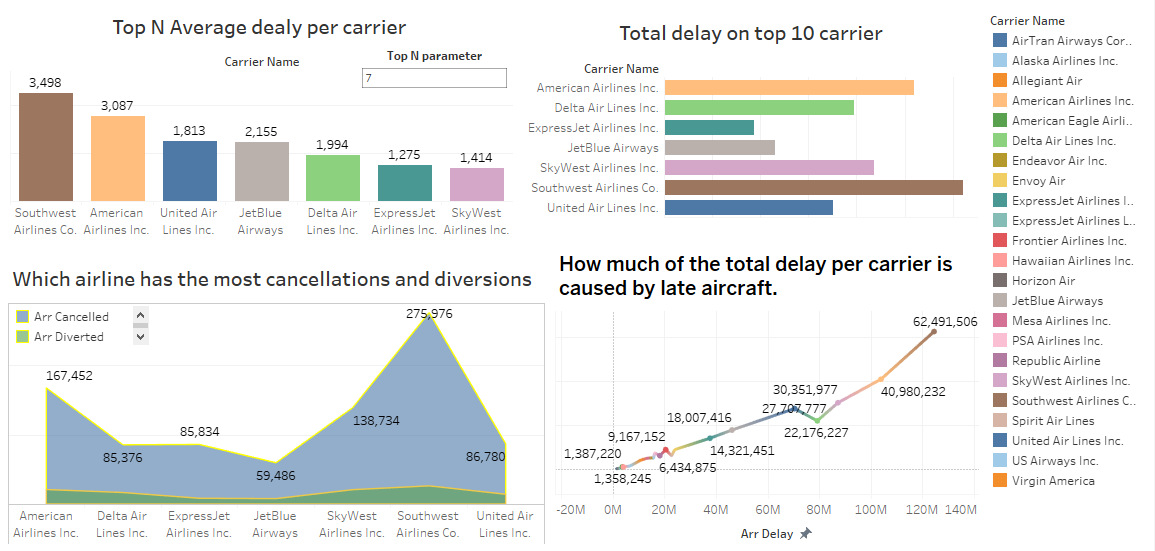

This screenshot's page, from the dashboard's own definition file:
{"tool":"tableau","page":{"name":"Airline Performance ","canvas":[1000,1000],"units":"permille","ordinal":0},"visuals":[{"type":"worksheet","title":"Sheet 5","mark":"Automatic","rows":["arr_delay"],"cols":["carrier_name"],"box":[9.5,14.5,435.5,422.1]},{"type":"legend","title":"Sheet 8","param":"[federated.16tr0iu0la0rbz14hj3gu0cn3j2k].[none:carrier_name:nk]","box":[854.5,14.5,138.5,880.4]},{"type":"worksheet","title":"Sheet 6","mark":"Bar","rows":["carrier_name"],"cols":["arr_delay"],"box":[454.6,25.4,393.1,416.7]},{"type":"parameter","param":"[Parameters].[Parameter 1]","box":[311.7,85.1,130.7,96]},{"type":"worksheet","title":"Sheet 8","mark":"Line","rows":["late_aircraft_delay"],"cols":["arr_delay"],"box":[481.4,449.3,367.1,545.3]},{"type":"worksheet","title":"Sheet 7","mark":"Area","rows":["arr_cancelled","arr_diverted"],"cols":["carrier_name"],"box":[7.8,471,464.9,516.3]},{"type":"legend","title":"Sheet 7","param":"[federated.16tr0iu0la0rbz14hj3gu0cn3j2k].[:Measure Names]","box":[11.3,554.4,120.4,70.7]}]}

Visuals, with their boxes on the dashboard's canvas, which has no fixed pixel size, in thousandths of its width and height (x1, y1, x2, y2). These are canvas units, not pixel positions in the 1155x551 screenshot, which may show the page scaled, cropped or inside an application window:
"Sheet 5" worksheet: region(10, 14, 445, 437)
"Sheet 8" legend: region(854, 14, 993, 895)
"Sheet 6" worksheet (Bar marks): region(455, 25, 848, 442)
parameter: region(312, 85, 442, 181)
"Sheet 8" worksheet (Line marks): region(481, 449, 848, 995)
"Sheet 7" worksheet (Area marks): region(8, 471, 473, 987)
"Sheet 7" legend: region(11, 554, 132, 625)
